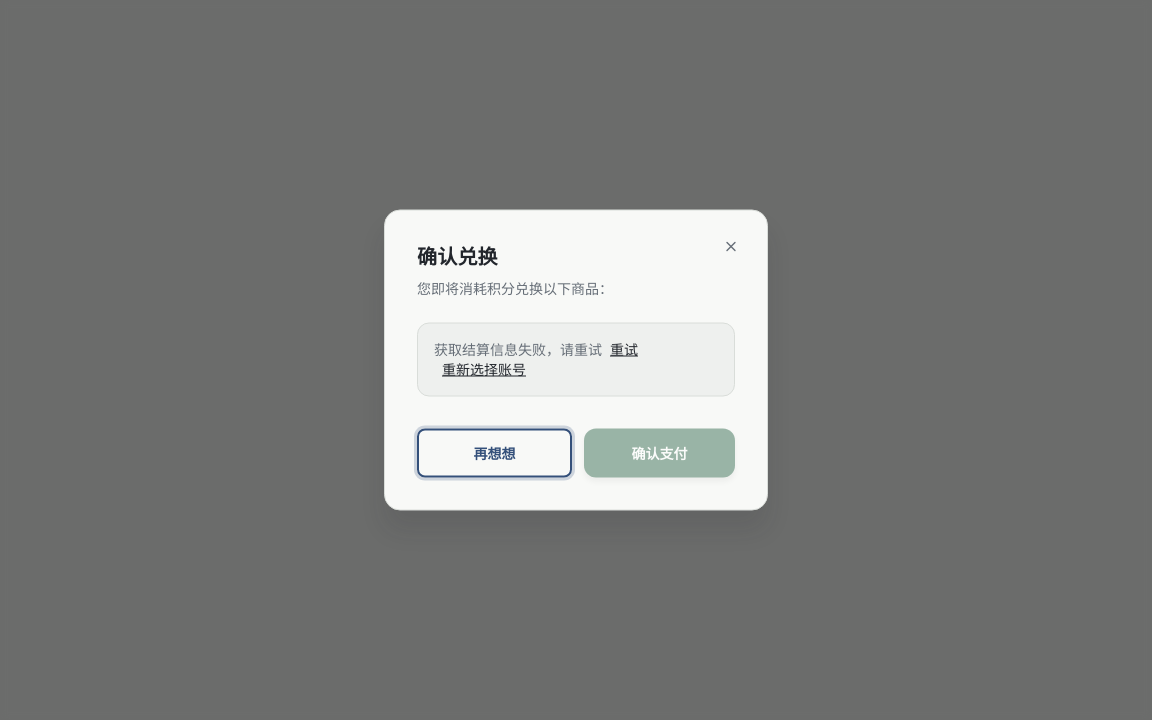
Test: PurchaseModal checkout preview terms › lets the buyer explicitly recover from a stale URL account without editing the URL
The width and height of the screenshot is (1152, 720).
Click the button "重新选择账号" at [484, 370], box [442,360,526,380]
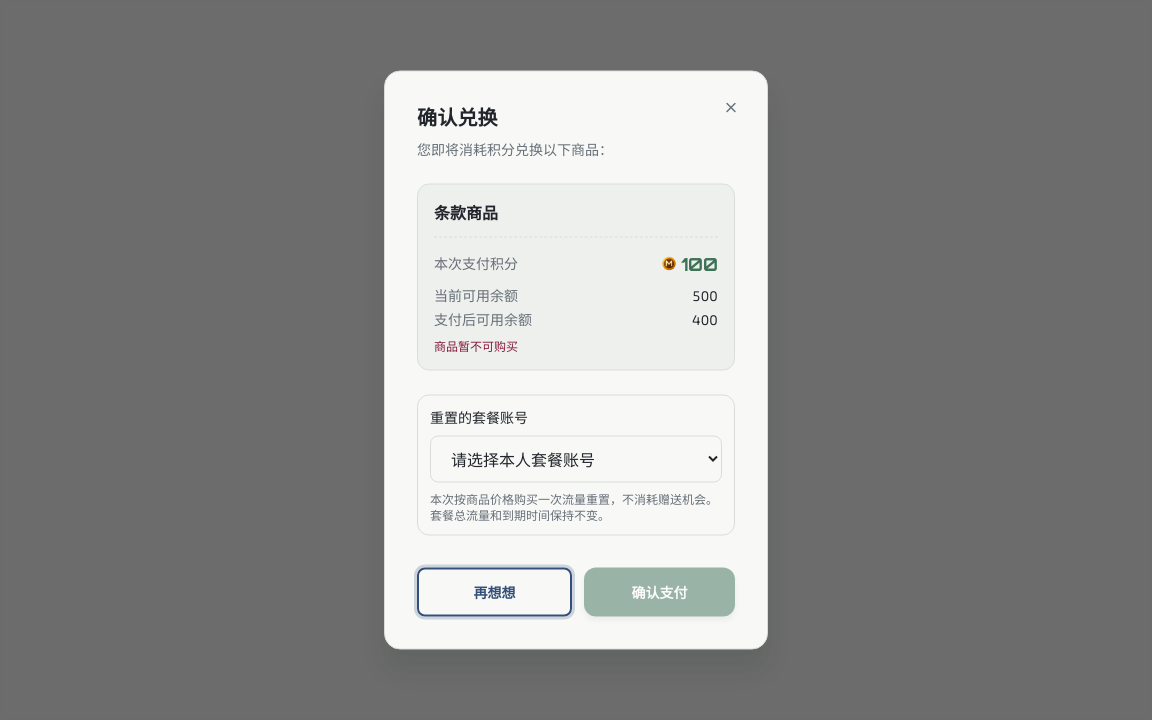
Expected: the button "确认支付" is disabled, [584,568,735,616]
Result: the dropdown with test id "paid-reset-account" shows "请选择本人套餐账号" at [430,436,722,482]
